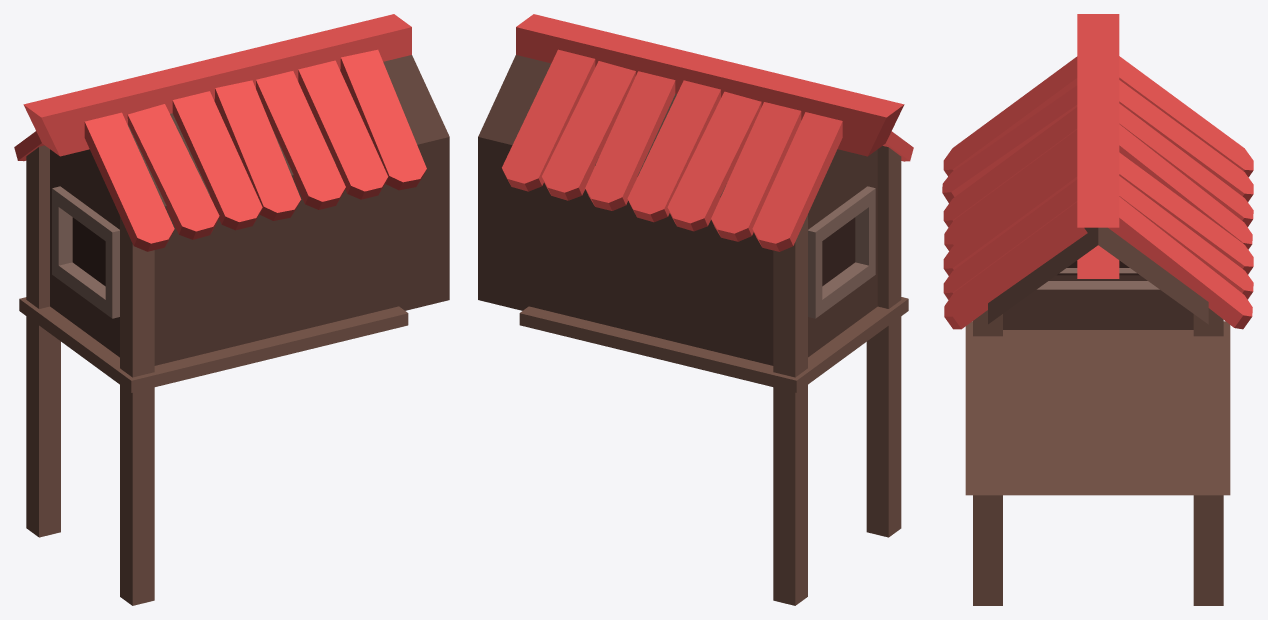
The model's file is Building_Big_Window_002.glb.
The picture shows the model from 3 angles, left to right: view 1: azimuth 30°, elevation 25°; view 2: azimuth 150°, elevation 25°; view 3: azimuth 270°, elevation 25°; orthographic projection. The views are drawn at different scales.
Visible parts, largest first — view 1: Building_Big_Window_002; view 2: Building_Big_Window_002; view 3: Building_Big_Window_002.
Part boxes in pixels (x1,y1,x2,y2): Building_Big_Window_002: [14, 14, 449, 605]; Building_Big_Window_002: [478, 14, 913, 605]; Building_Big_Window_002: [942, 14, 1253, 605].
Size of the model in its own units: 9.3 by 11.21 by 5.73.
1 material, 1 textured.
